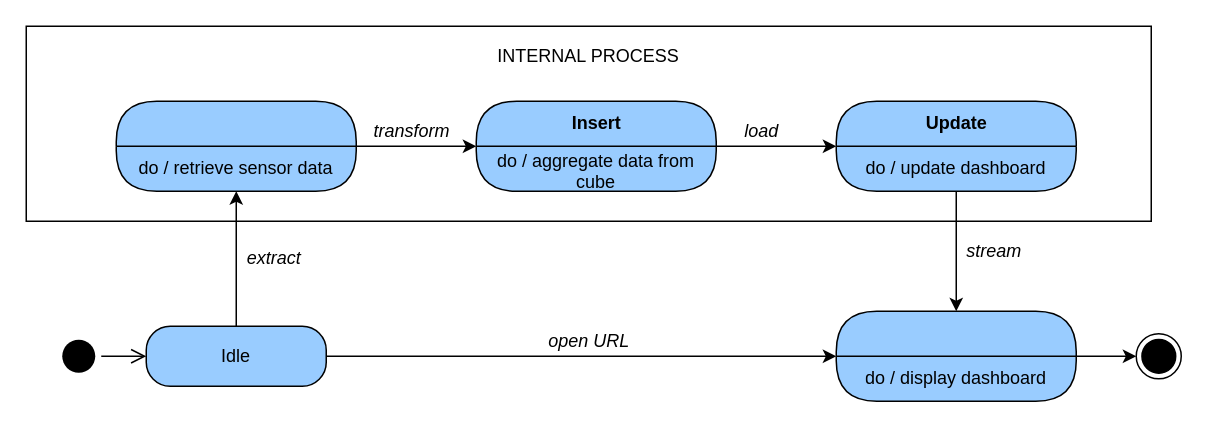
Some shapes in this 1208 by 428 pixel diagram are drawn without their labels. Here are the shapes that lost their labels. From the top down, the box of each, then its label:
(115, 100, 356, 191): Import
(835, 310, 1076, 401): View
